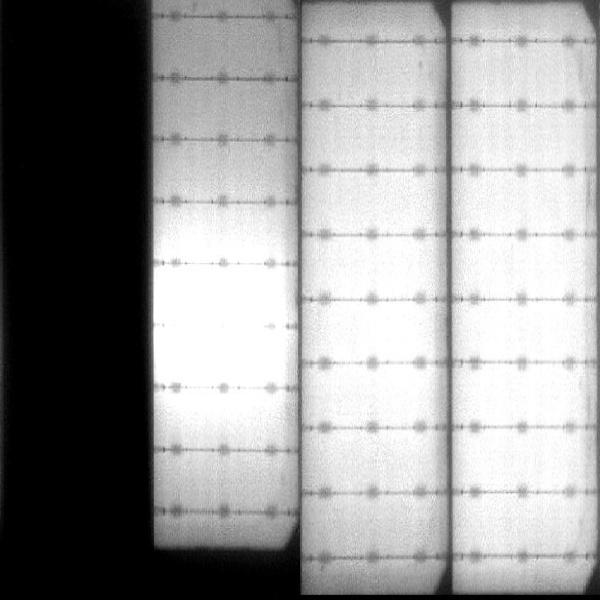hot_spot: (154, 329, 279, 380), (165, 270, 279, 318), (163, 237, 257, 256), (168, 393, 261, 411)
no_electricity: (2, 2, 153, 596), (154, 549, 304, 593)
